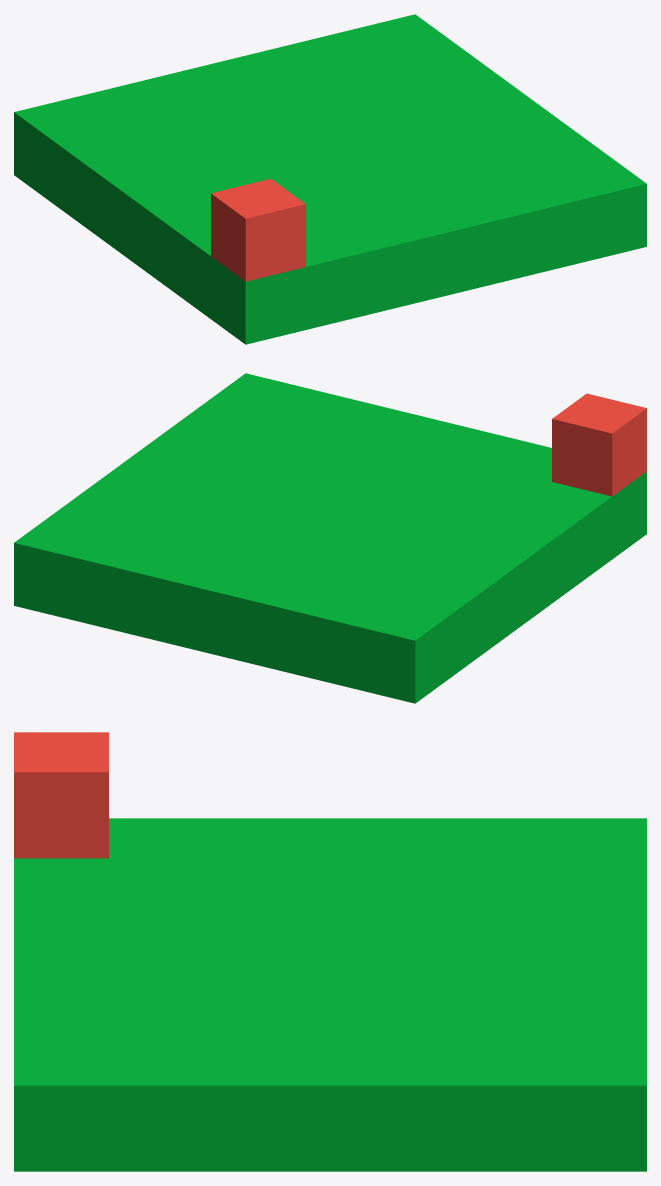
File: center_single.fbx
3 views of the same model, one above another, from view 1: azimuth 30°, elevation 25°; view 2: azimuth 150°, elevation 25°; view 3: azimuth 270°, elevation 25° (orthographic). The views are drawn at different scales.
Visible parts, largest first — view 1: green_straight_single_edge.001, side.001; view 2: green_straight_single_edge.001, side.001; view 3: green_straight_single_edge.001, side.001.
Part boxes in pixels (left/top/right/bottom): green_straight_single_edge.001: left=14, top=14, right=646, bottom=344; side.001: left=211, top=178, right=305, bottom=281; green_straight_single_edge.001: left=14, top=373, right=646, bottom=703; side.001: left=552, top=393, right=646, bottom=496; green_straight_single_edge.001: left=14, top=818, right=646, bottom=1171; side.001: left=14, top=732, right=108, bottom=858.
Size of the model in its own units: 200 by 60 by 200.
